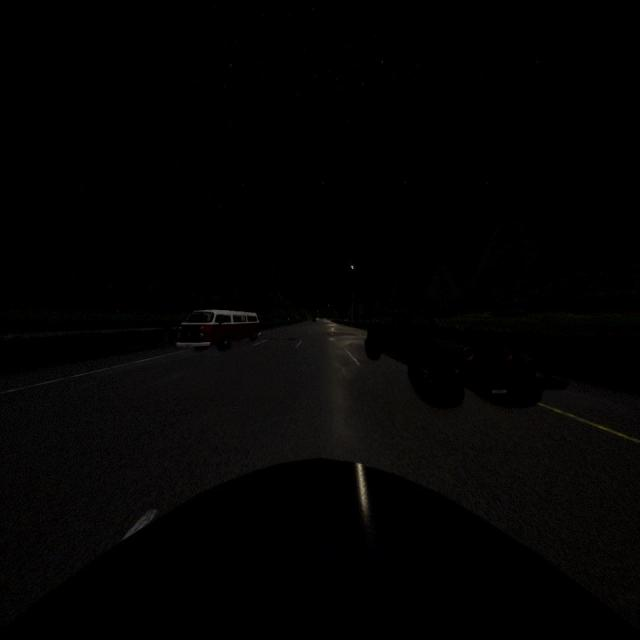Vehicle: (0, 462, 640, 640), (363, 302, 570, 409), (176, 310, 260, 349), (311, 318, 317, 322)
